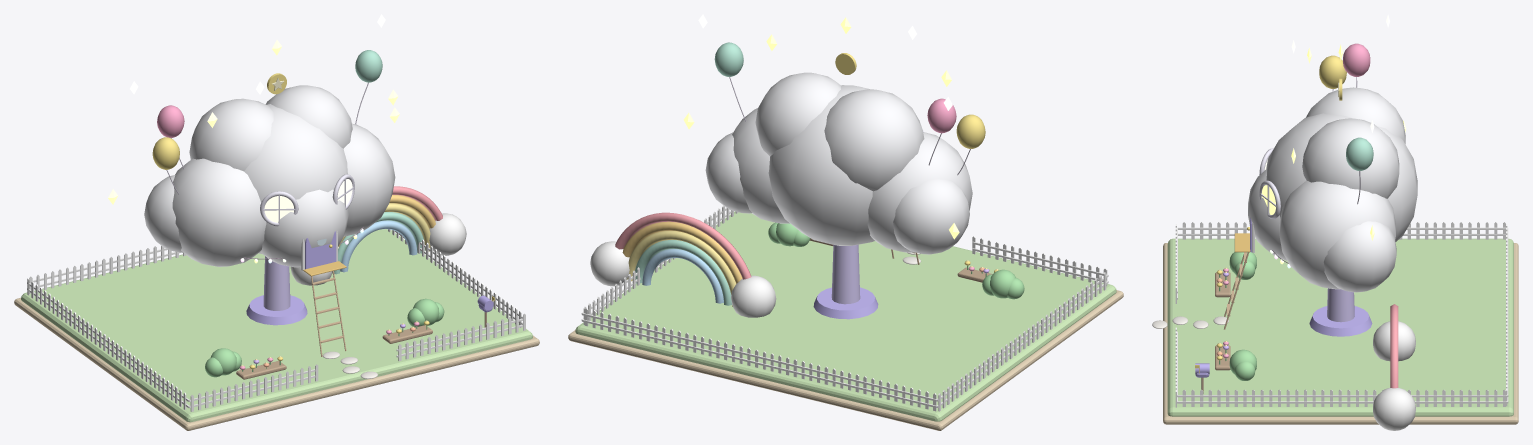
The model's file is building_sky_L10.glb.
3 views of the same model, side by side, from view 1: azimuth 30°, elevation 25°; view 2: azimuth 150°, elevation 25°; view 3: azimuth 270°, elevation 25° (orthographic). The views are drawn at different scales.
Parts seen in each view (by area): view 1: sky_L10, object 1; view 2: sky_L10; view 3: sky_L10.
Boxes of the visible parts, box(x1,y1,x2,y2) form: sky_L10: box(14, 40, 539, 430); object 1: box(264, 196, 293, 222); sky_L10: box(568, 17, 1123, 430); sky_L10: box(1152, 43, 1518, 430).
Bounding box in the file's own units: 29.3 × 20.56 × 23.29.
